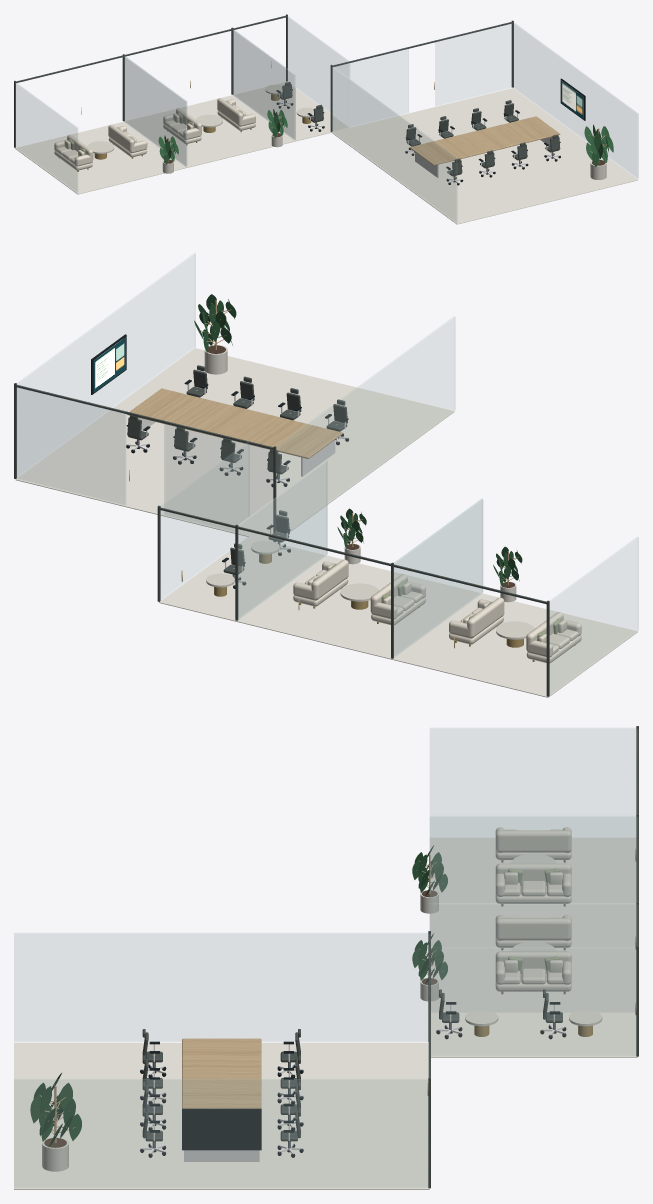
Rendered from meeting-rooms.glb.
The picture shows the model from 3 angles, top to bottom: view 1: azimuth 30°, elevation 25°; view 2: azimuth 150°, elevation 25°; view 3: azimuth 270°, elevation 25°; orthographic projection. The views are drawn at different scales.
Parts seen in each view (by area): view 1: Mesh_0.100, Mesh_7.086, Mesh_7.087, Mesh_7.089, Mesh_7.088, Mesh_0.097, Mesh_0.098, Mesh_7.042, Mesh_7.047, Mesh_7.043, Mesh_7.046, Mesh_7.050 (+7 smaller); view 2: Mesh_0.100, Mesh_7.087, Mesh_7.086, Mesh_7.089, Mesh_0.097, Mesh_0.098, Mesh_7.088, Mesh_7.042, Mesh_7.047, Mesh_7.043, Mesh_7.046, Mesh_7.050 (+7 smaller); view 3: Mesh_0.100, Mesh_7.087, Mesh_7.086, Mesh_7.051, Mesh_7.042, Mesh_7.043, Mesh_7.046, Mesh_0.098, Mesh_0.097, Mesh_7.047, Mesh_7.050, Mesh_0.099 (+8 smaller).
Part boxes in pixels (box(x1,y1,x2,y2)): Mesh_0.100: box(331, 88, 637, 224); Mesh_7.086: box(332, 67, 457, 222); Mesh_7.087: box(513, 23, 638, 178); Mesh_7.089: box(435, 24, 511, 105); Mesh_7.088: box(333, 49, 408, 130); Mesh_0.097: box(15, 121, 186, 194); Mesh_0.098: box(124, 95, 295, 167); Mesh_7.042: box(15, 83, 77, 192); Mesh_7.047: box(233, 30, 295, 139); Mesh_7.043: box(124, 56, 186, 166); Mesh_7.046: box(124, 56, 186, 166); Mesh_7.050: box(233, 30, 295, 139); Mesh_0.100: box(15, 348, 454, 542); Mesh_7.087: box(17, 253, 195, 477); Mesh_7.086: box(276, 317, 455, 502); Mesh_7.089: box(16, 387, 125, 505); Mesh_0.097: box(392, 593, 637, 697); Mesh_0.098: box(237, 555, 481, 659); Mesh_7.088: box(164, 423, 272, 531); Mesh_7.042: box(550, 537, 638, 694); Mesh_7.047: box(238, 461, 327, 618); Mesh_7.043: box(394, 499, 482, 657); Mesh_7.046: box(394, 499, 482, 656); Mesh_7.050: box(239, 461, 326, 618); Mesh_0.100: box(14, 1042, 429, 1189); Mesh_7.087: box(14, 1079, 427, 1187); Mesh_7.086: box(14, 933, 427, 1041); Mesh_7.051: box(431, 947, 635, 1056); Mesh_7.042: box(430, 728, 635, 815); Mesh_7.043: box(430, 816, 635, 902); Mesh_7.046: box(430, 816, 635, 902); Mesh_0.098: box(429, 925, 636, 1013); Mesh_0.097: box(429, 837, 636, 925); Mesh_7.047: box(430, 903, 635, 946); Mesh_7.050: box(430, 904, 635, 946); Mesh_0.099: box(431, 1013, 637, 1057).
Size of the model in its own units: 24.07 by 3.56 by 18.04.
16 materials, 6 textured.
